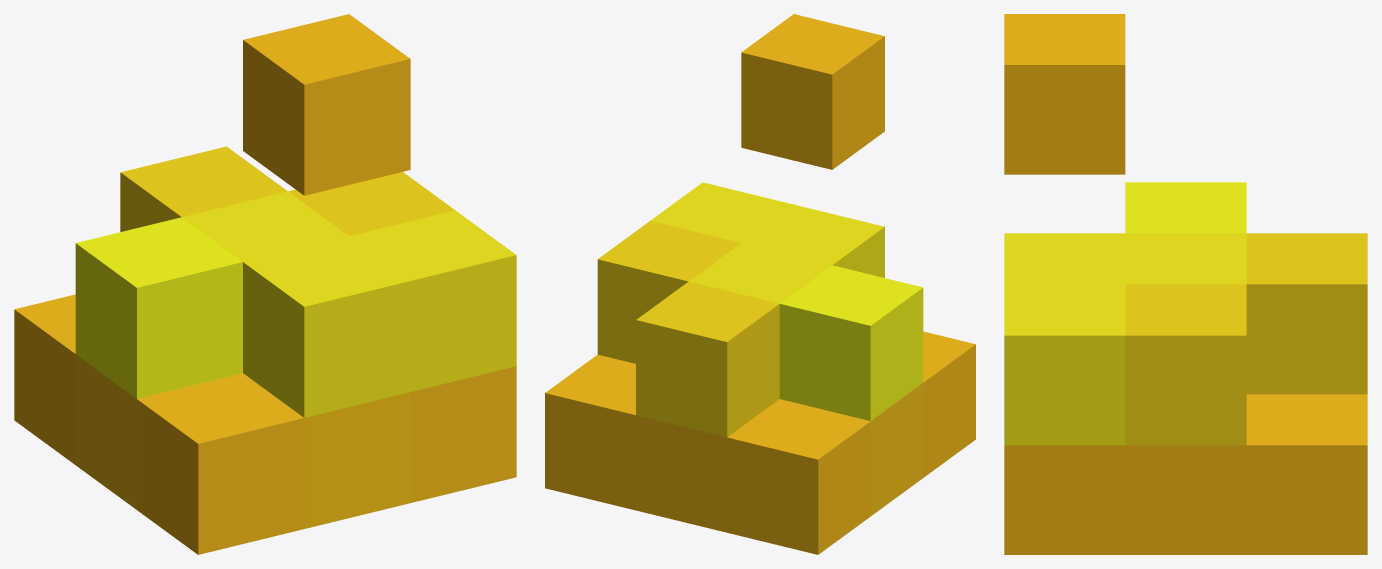
File: wall_torch-2-flames.obj
3 renders of one model, left to right at view 1: azimuth 30°, elevation 25°; view 2: azimuth 150°, elevation 25°; view 3: azimuth 270°, elevation 25°, orthographic. The views are drawn at different scales.
Parts seen in each view (by area): view 1: flames; view 2: flames; view 3: flames.
Boxes of the visible parts, left/top/right/bottom form: flames: left=14, top=14, right=516, bottom=554; flames: left=545, top=14, right=975, bottom=554; flames: left=1004, top=14, right=1367, bottom=554.
Bounding box in the file's own units: 0.3 × 0.4 × 0.3.
Materials: 1 (1 with a texture image).
